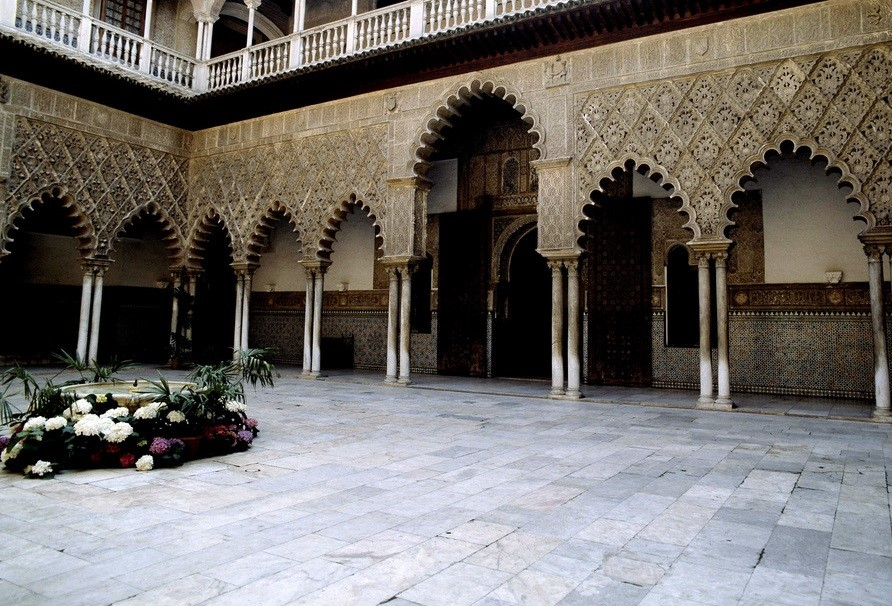arco-lobulado: (713, 133, 880, 269), (404, 72, 551, 189), (569, 153, 705, 270), (98, 196, 184, 279), (314, 187, 396, 270), (38, 181, 97, 279), (243, 194, 312, 276), (181, 202, 243, 281)
